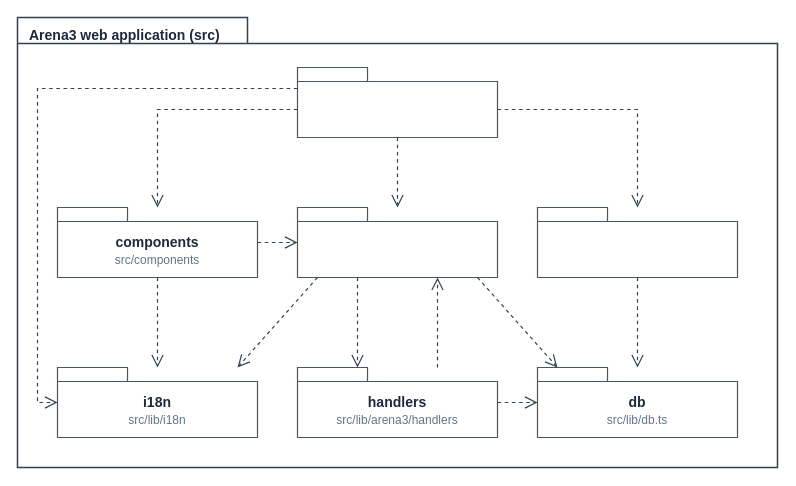
This 796x486 diagram has some shape labels left out. The shapes that lost their labels are listed below. From the top down, each one's centre as x and y in pixels, then its label:
At (397,102): "routes src/routes".
At (397,242): "arena3 src/lib/arena3".
At (637,242): "auth src/lib/auth".
